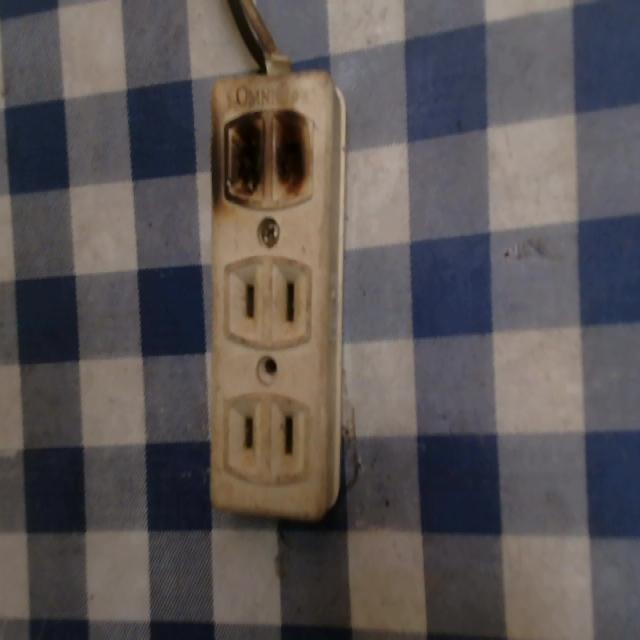-: (218, 97, 317, 203)
